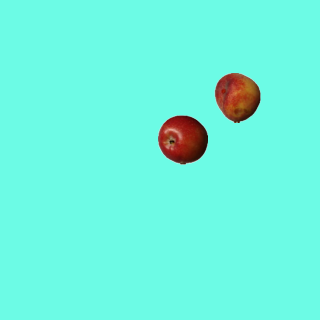Apple Braeburn: (157, 114, 207, 164)
Peach: (212, 72, 262, 122)
